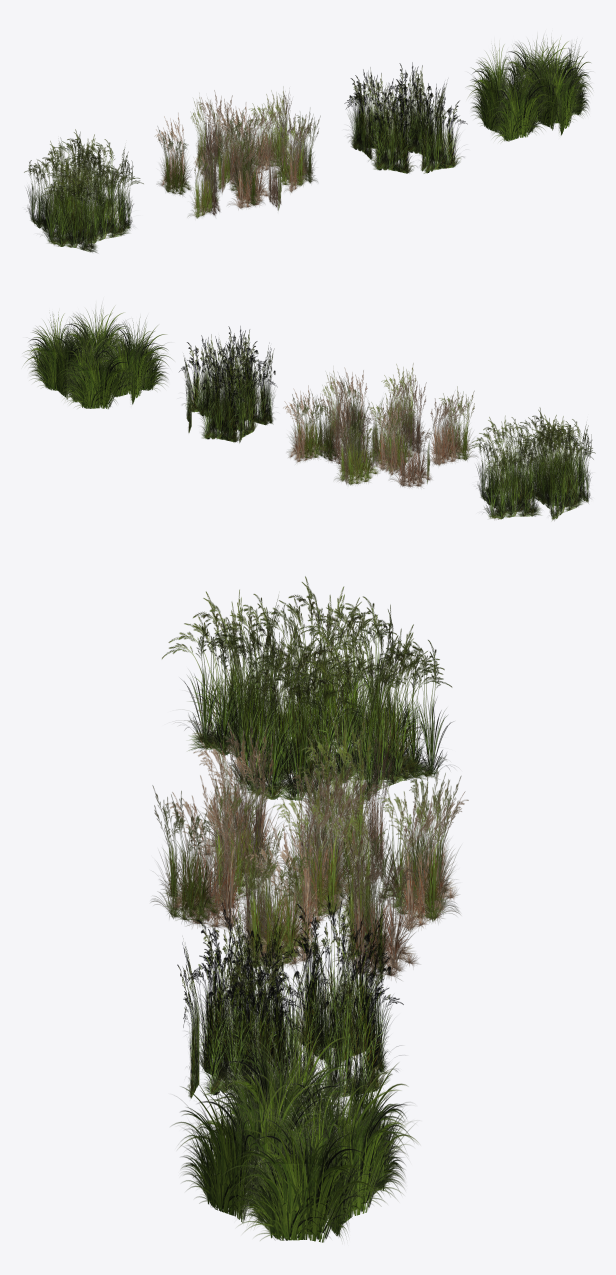
File: grass.glb
3 views of the same model, one above another, from view 1: azimuth 30°, elevation 25°; view 2: azimuth 150°, elevation 25°; view 3: azimuth 270°, elevation 25° (orthographic). The views are drawn at different scales.
Bounding box in the file's own units: 1545 × 208 × 430.
4 materials, 4 textured.
